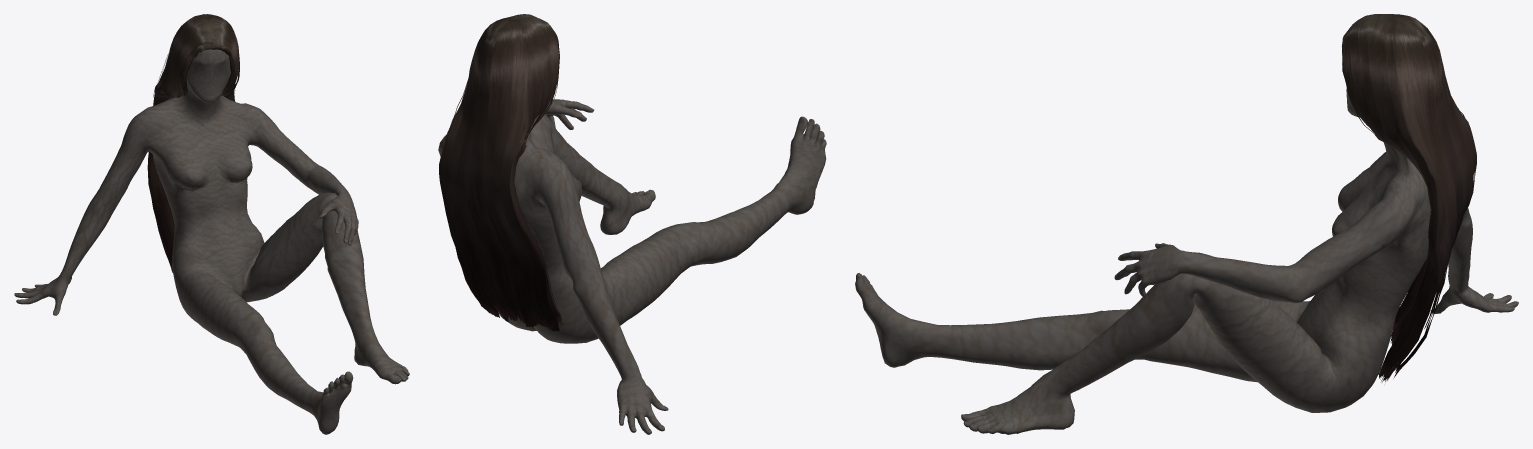
The model's file is kira_human_sitting_1.dae.
3 views of the same model, side by side, from view 1: azimuth 30°, elevation 25°; view 2: azimuth 150°, elevation 25°; view 3: azimuth 270°, elevation 25° (orthographic). The views are drawn at different scales.
Visible parts, largest first — view 1: kira_human_sitting-base, kira_human_sitting-long01; view 2: kira_human_sitting-base, kira_human_sitting-long01; view 3: kira_human_sitting-base, kira_human_sitting-long01.
Part boxes in pixels (x1,y1,x2,y2): kira_human_sitting-base: (14, 49, 409, 434); kira_human_sitting-long01: (147, 14, 239, 272); kira_human_sitting-base: (438, 93, 826, 434); kira_human_sitting-long01: (439, 14, 562, 331); kira_human_sitting-base: (855, 88, 1518, 434); kira_human_sitting-long01: (1341, 14, 1476, 382).
Bounding box in the file's own units: 0.7691 × 1.3 × 0.8416.
